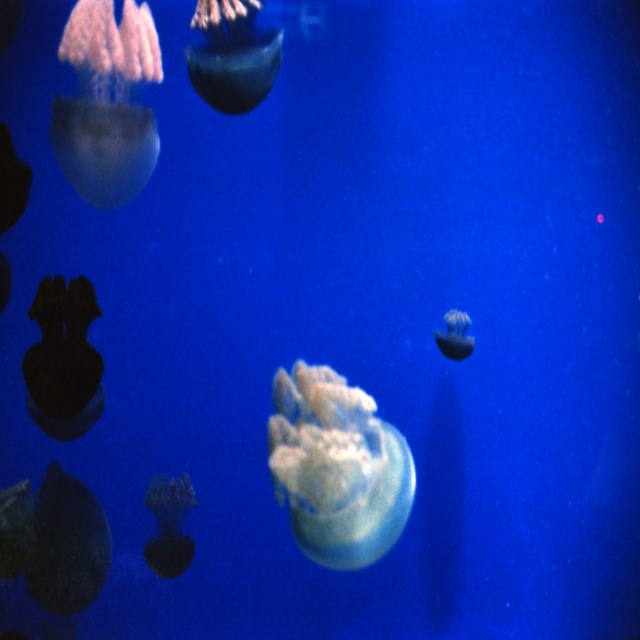Jellyfish: (259, 360, 422, 565), (51, 0, 167, 212), (0, 457, 115, 618), (23, 269, 107, 443), (184, 0, 282, 119), (141, 476, 197, 582), (436, 307, 473, 366)
